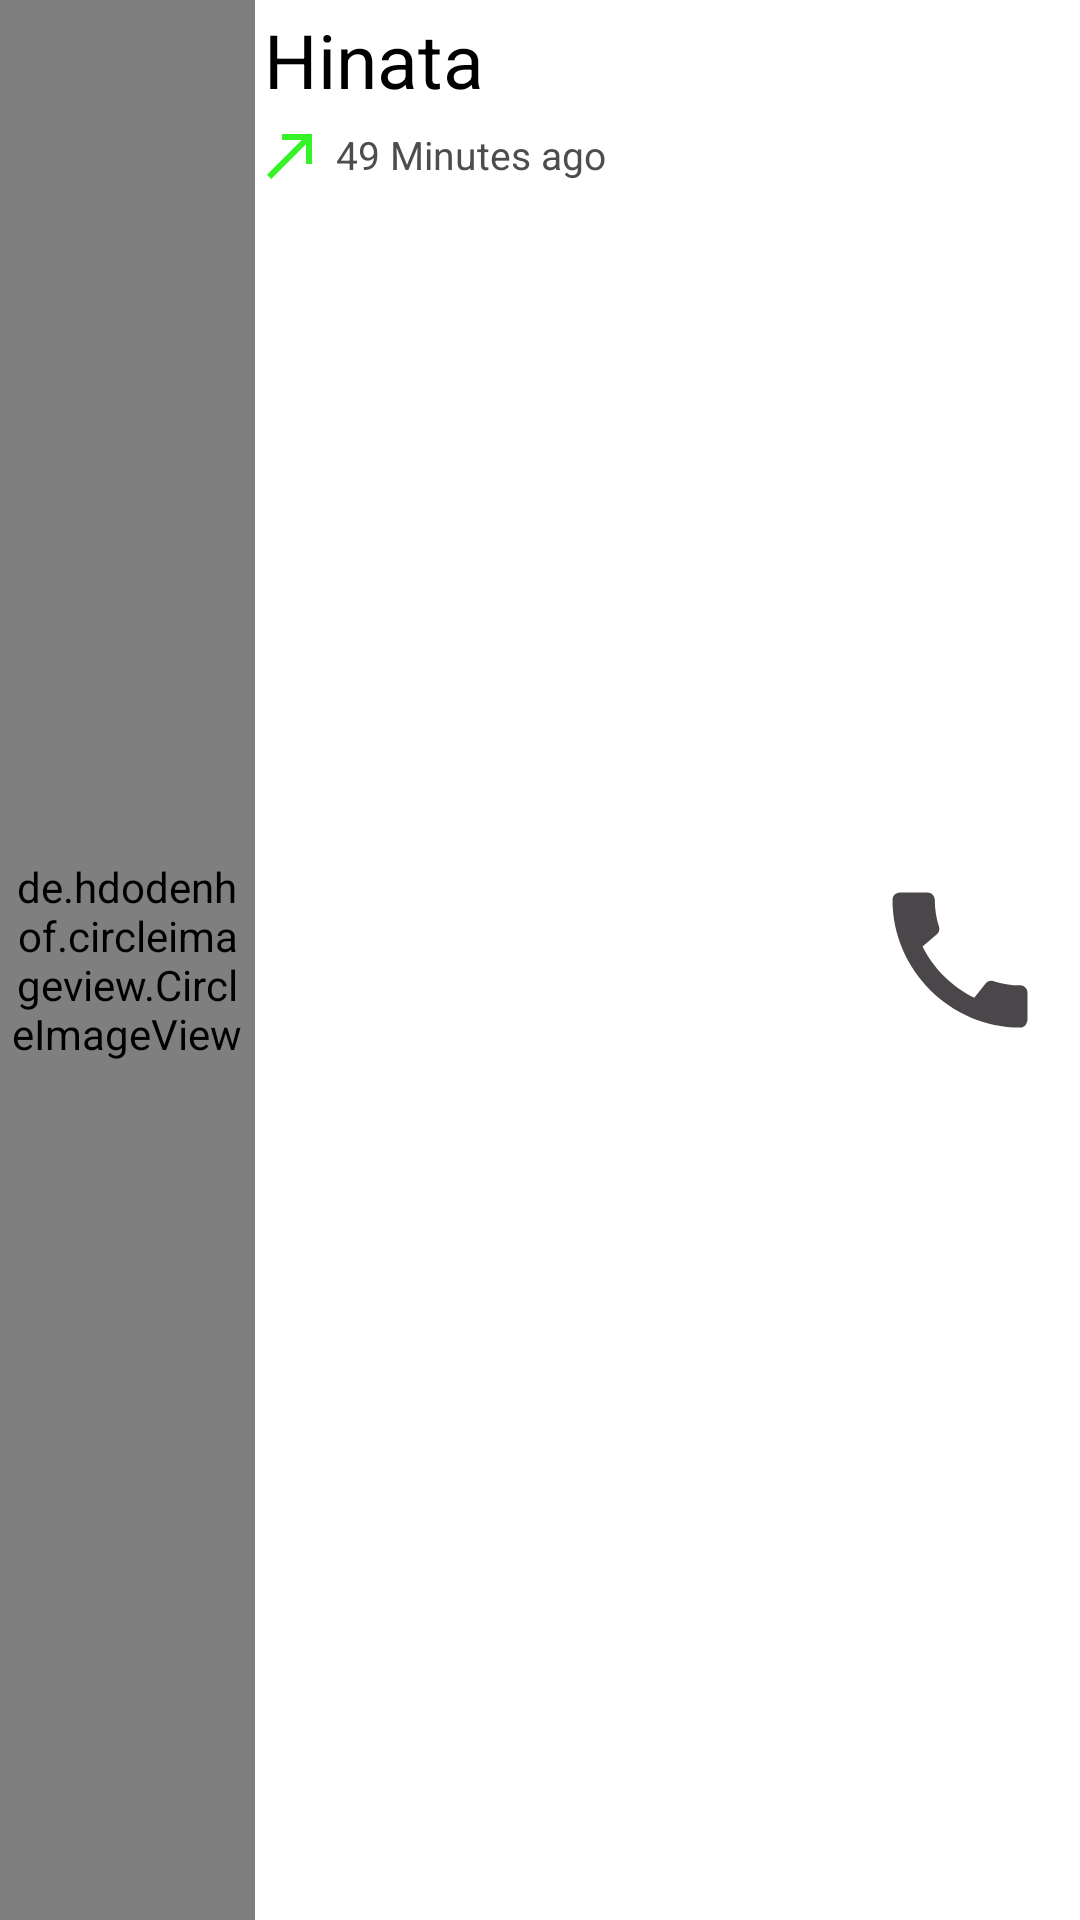

Point at icon controls on the screen. Image size 1080w x 1920h, points as point (x, y).
call: point (960, 960)
